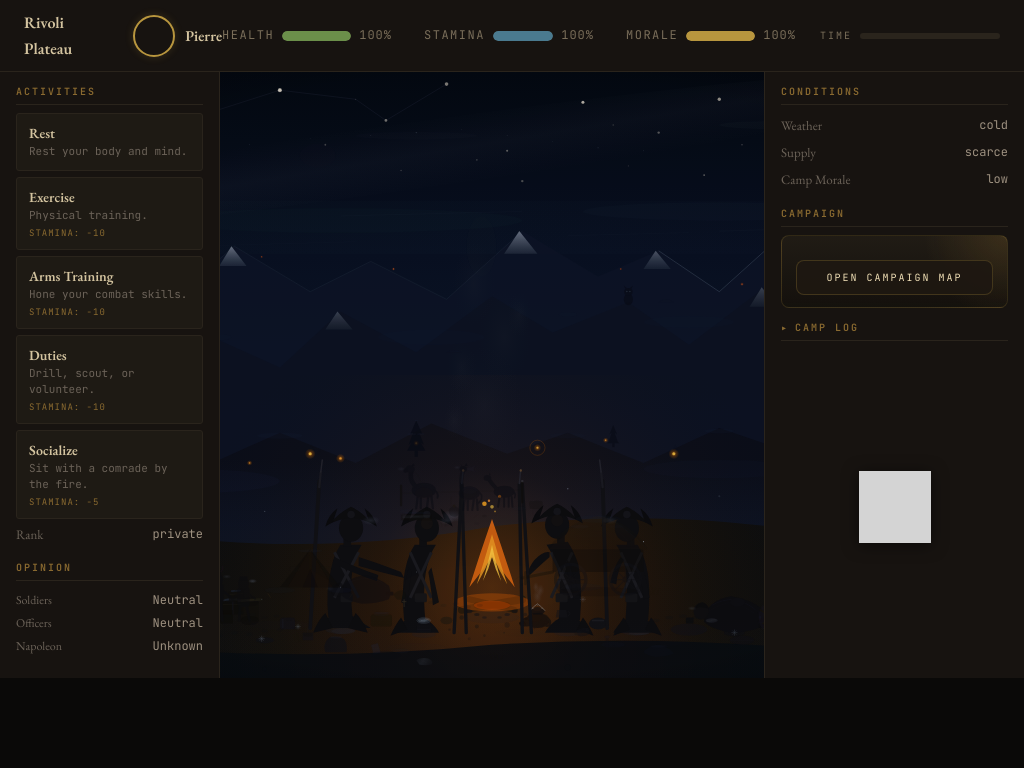
Test: CampPage › renders camp log entries
Expected: the text "The regiment arrives at camp." is not shown
// Click the "Camp Log" toggle to expand
Click the heading "▸ Camp Log". click: (894, 330)
box: [781,320,1008,341]
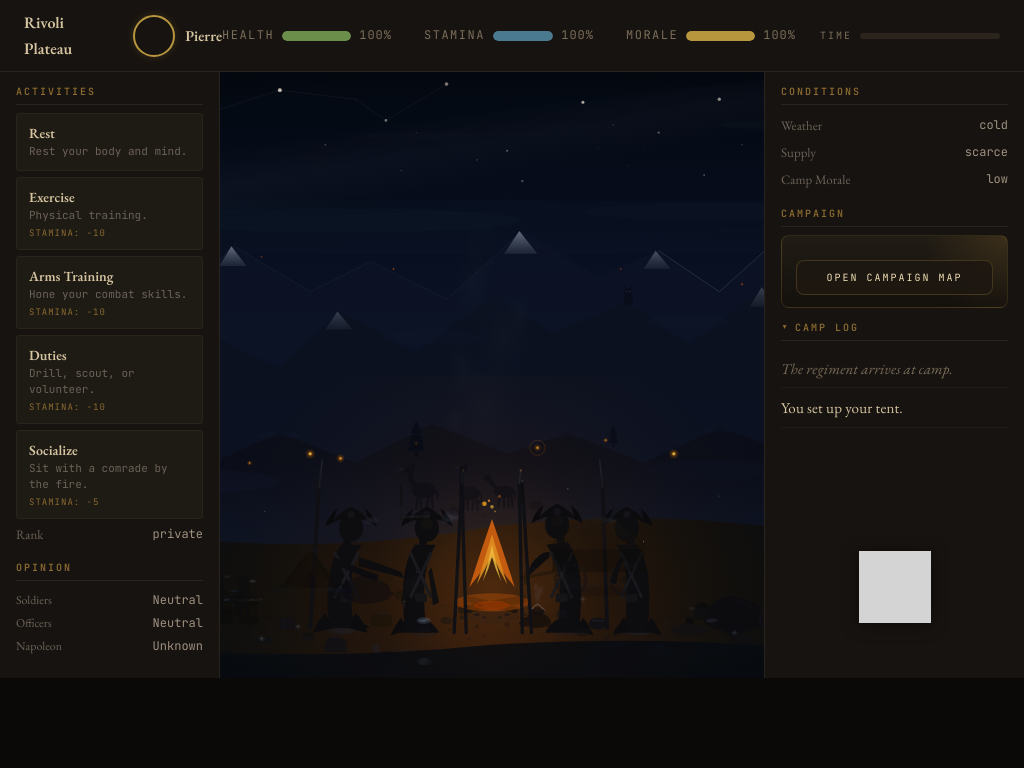
Result: the text "The regiment arrives at camp." is shown at [781,357,1008,388]
Result: the text "You set up your tent." is shown at [781,396,1008,428]
